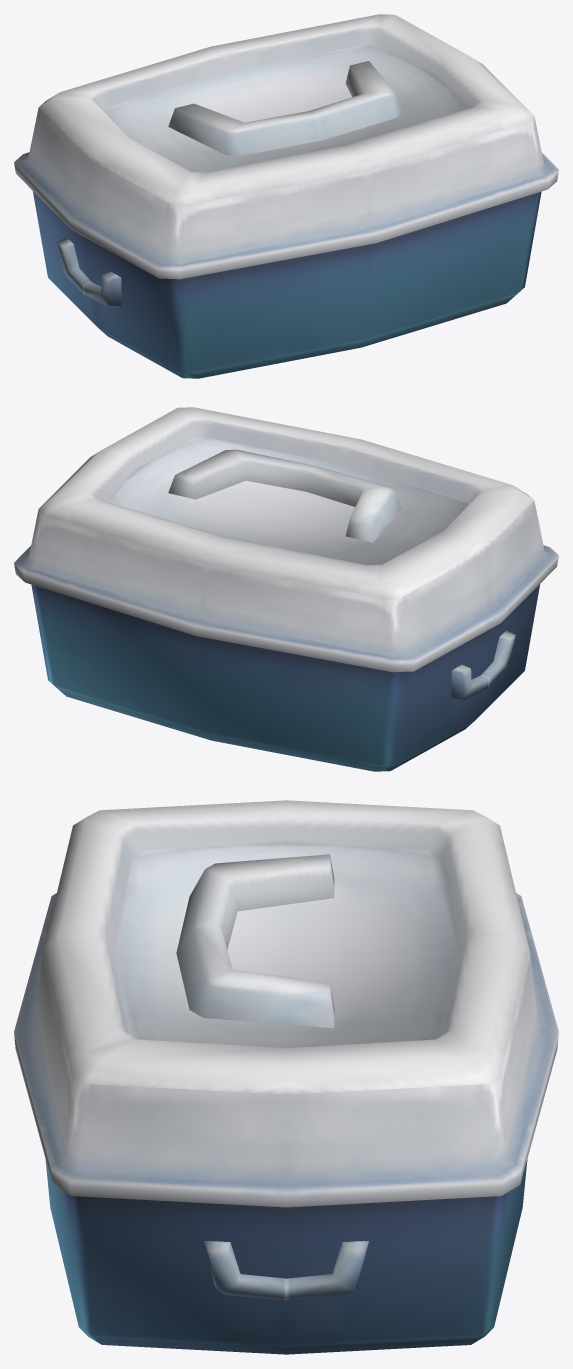
3 renders of one model, top to bottom at view 1: azimuth 30°, elevation 25°; view 2: azimuth 150°, elevation 25°; view 3: azimuth 270°, elevation 25°, orthographic. The views are drawn at different scales.
Parts seen in each view (by area): view 1: wq_wj003_02; view 2: wq_wj003_02; view 3: wq_wj003_02.
Boxes of the visible parts, box(x1,y1,x2,y2) form: wq_wj003_02: box(14, 14, 558, 378); wq_wj003_02: box(14, 407, 558, 771); wq_wj003_02: box(14, 800, 558, 1354).
Bounding box in the file's own units: 68.35 × 29.84 × 49.5.
1 material, 1 textured.
